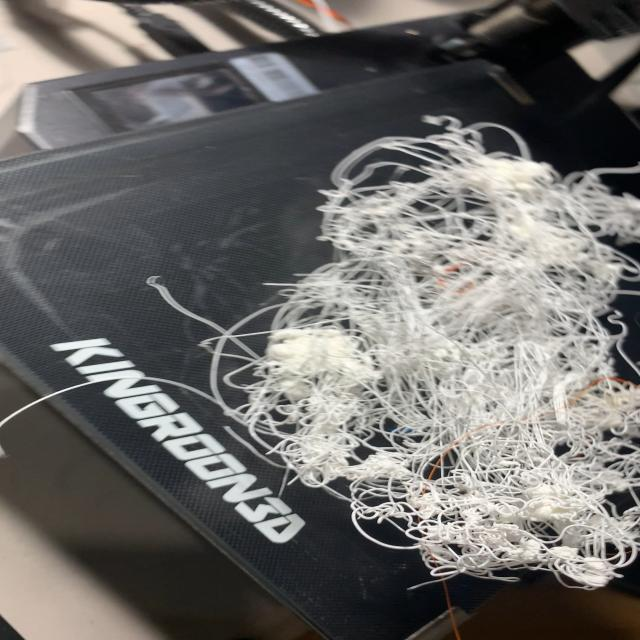spaghetti: (145, 113, 638, 593)
